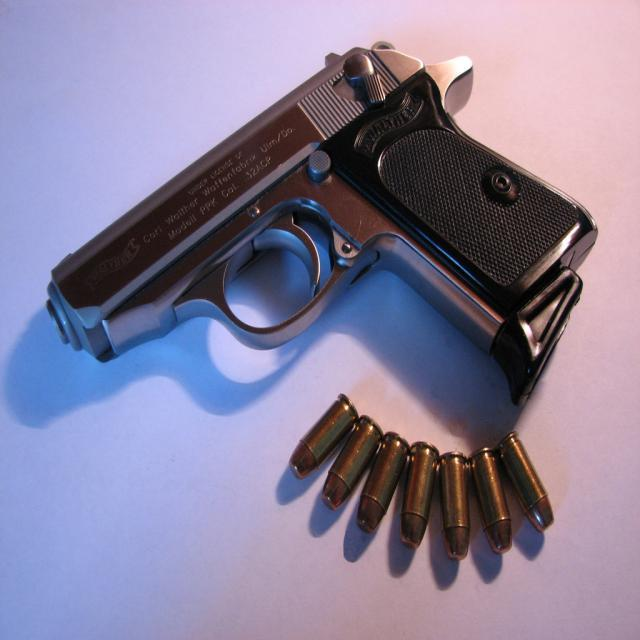Gun: (45, 40, 597, 406)
